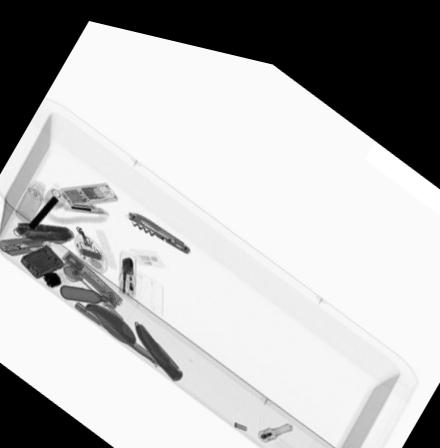Knife: (133, 310, 181, 374), (126, 202, 192, 245), (11, 219, 76, 242), (0, 232, 51, 255)
